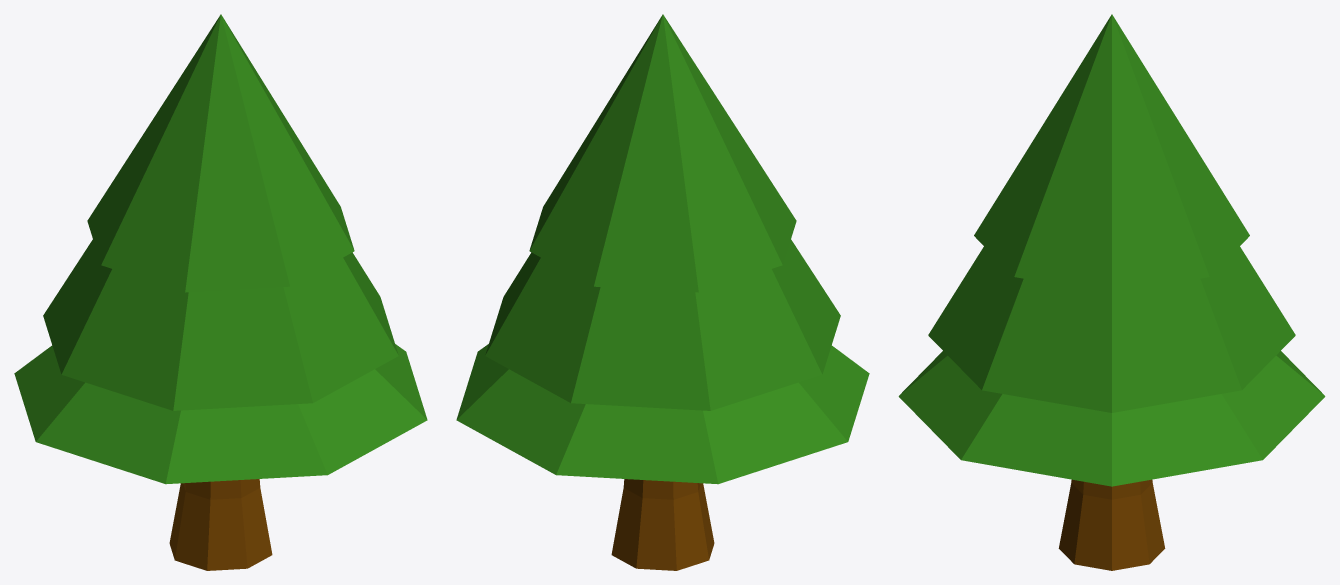
File: Tree3.gltf
3 renders of one model, left to right at view 1: azimuth 30°, elevation 25°; view 2: azimuth 150°, elevation 25°; view 3: azimuth 270°, elevation 25°, orthographic.
Visible parts, largest first — view 1: Tree3; view 2: Tree3; view 3: Tree3.
Boxes of the visible parts, bbox=[...] form: Tree3: bbox=[14, 14, 427, 570]; Tree3: bbox=[456, 14, 869, 570]; Tree3: bbox=[898, 14, 1325, 570].
Size of the model in its own units: 193 by 266 by 193.
